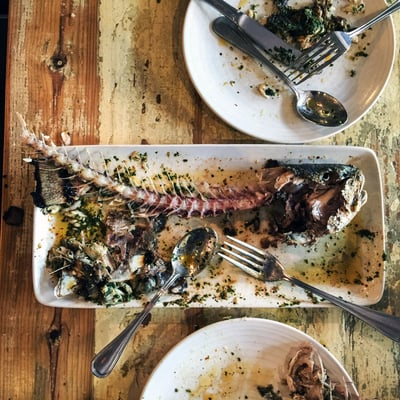burger: (219, 229, 400, 346), (207, 14, 349, 125), (287, 0, 400, 84)
sushi: (140, 316, 353, 400)
